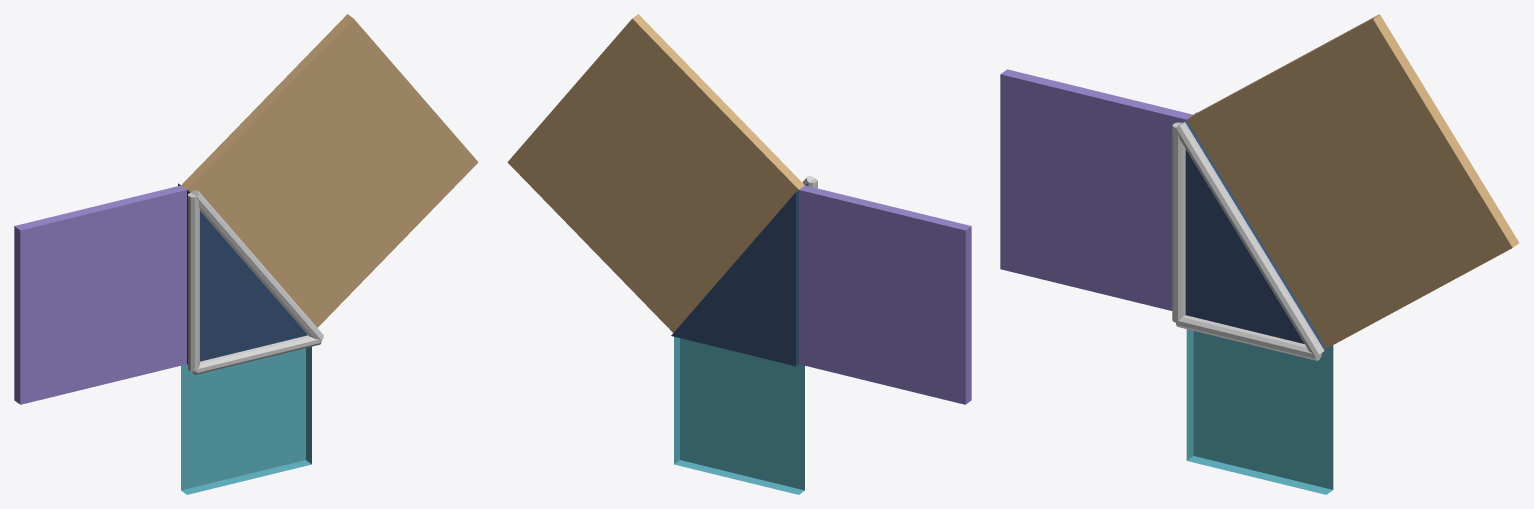
Rendered from pitagoras.glb.
3 views of the same model, side by side, from view 1: azimuth 30°, elevation 25°; view 2: azimuth 150°, elevation 25°; view 3: azimuth 330°, elevation 25° (orthographic). The views are drawn at different scales.
Parts seen in each view (by area): view 1: pitagoras.glb_2, pitagoras.glb_1, pitagoras.glb_0, pitagoras.glb_3, pitagoras.glb_6, pitagoras.glb_5, pitagoras.glb_4; view 2: pitagoras.glb_2, pitagoras.glb_1, pitagoras.glb_0, pitagoras.glb_3; view 3: pitagoras.glb_2, pitagoras.glb_1, pitagoras.glb_0, pitagoras.glb_3, pitagoras.glb_6, pitagoras.glb_5, pitagoras.glb_4.
Part boxes in pixels (left/top/right/bottom): pitagoras.glb_2: left=181, top=14, right=478, bottom=327; pitagoras.glb_1: left=14, top=185, right=186, bottom=404; pitagoras.glb_0: left=181, top=346, right=311, bottom=494; pitagoras.glb_3: left=178, top=183, right=307, bottom=364; pitagoras.glb_6: left=191, top=190, right=323, bottom=341; pitagoras.glb_5: left=188, top=192, right=199, bottom=371; pitagoras.glb_4: left=192, top=335, right=321, bottom=374; pitagoras.glb_2: left=507, top=14, right=804, bottom=332; pitagoras.glb_1: left=799, top=185, right=971, bottom=404; pitagoras.glb_0: left=674, top=336, right=804, bottom=494; pitagoras.glb_3: left=671, top=183, right=807, bottom=366; pitagoras.glb_2: left=1187, top=14, right=1519, bottom=348; pitagoras.glb_1: left=1000, top=69, right=1192, bottom=310; pitagoras.glb_0: left=1186, top=329, right=1333, bottom=494; pitagoras.glb_3: left=1184, top=112, right=1326, bottom=349; pitagoras.glb_6: left=1175, top=122, right=1324, bottom=356; pitagoras.glb_5: left=1172, top=122, right=1185, bottom=322; pitagoras.glb_4: left=1176, top=315, right=1321, bottom=360.
Size of the model in its own units: 1.21 by 1.1 by 0.0865.
